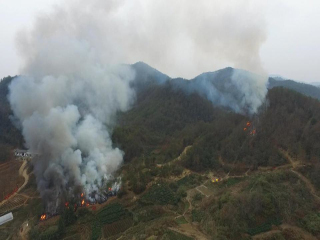smoke: (7, 11, 136, 206), (192, 12, 273, 119)
